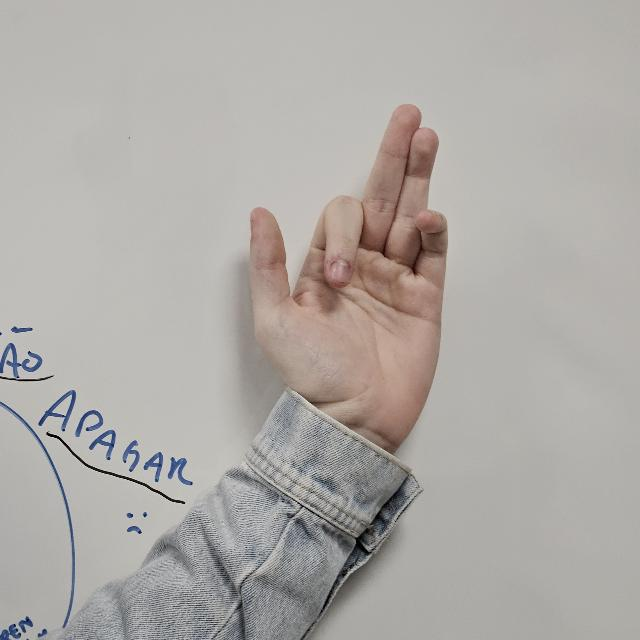R: (241, 84, 447, 450)
